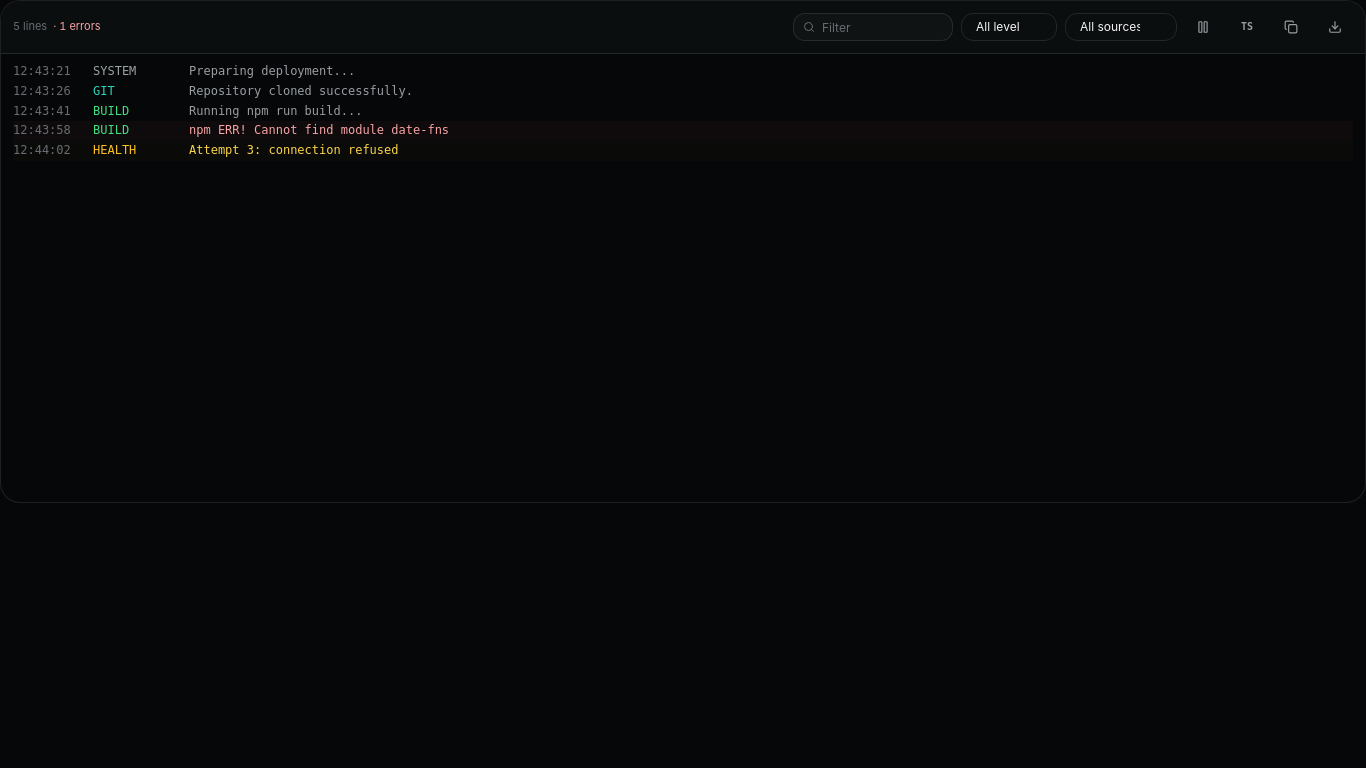
Test case: LogTerminal › filters by source without discarding the buffer
This screenshot has width=1366, height=768.
Step 1. Select "GIT" in the dropdown named "Source" → (1121, 27), box [1065,13,1177,41]
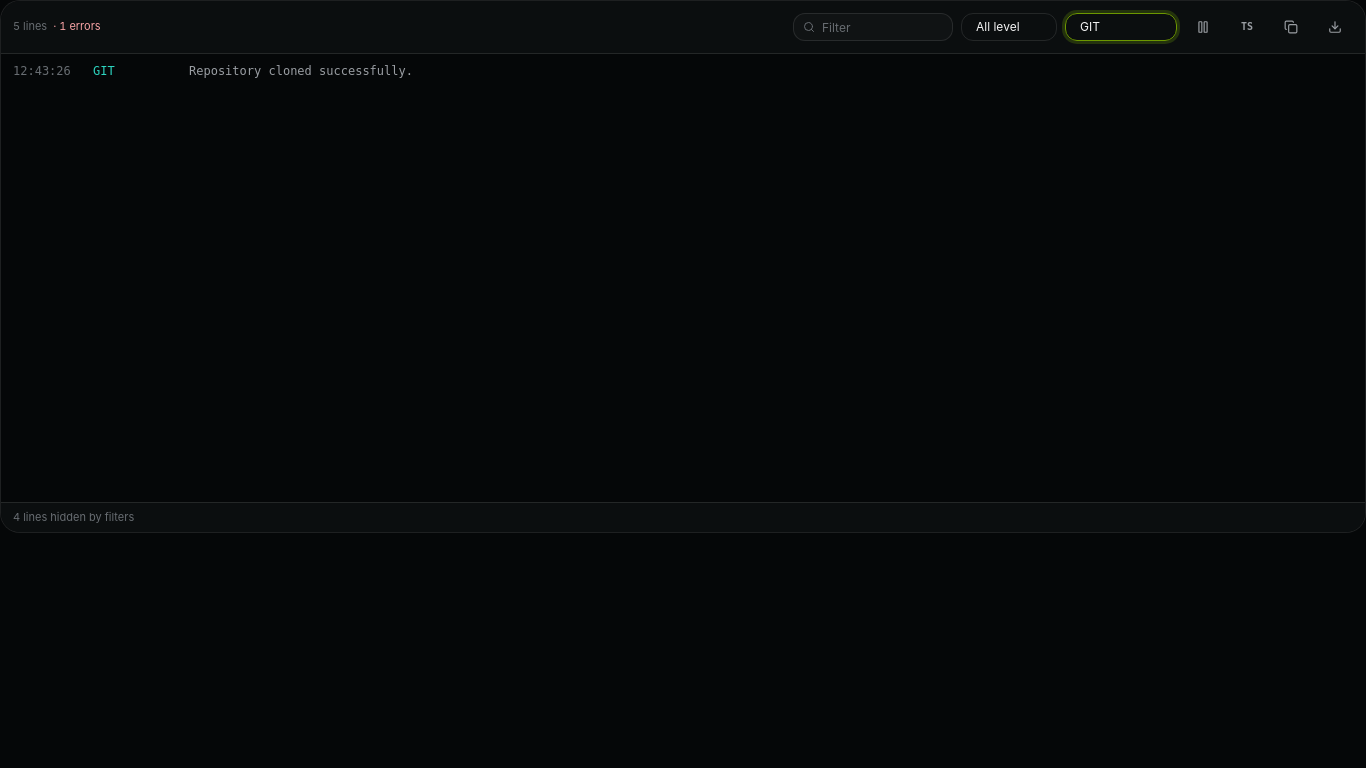
Check: the text "Repository cloned successfully." is shown, box [189,62,1353,82]
Check: the text "Preparing deployment..." is gone
Check: the text "4 lines hidden by filters" is shown, box [1,502,1365,532]
# Clearing the filter brings everything back, proving nothing was thrown away.
Step 2. Select "All sources" in the dropdown named "Source" → (1121, 27), box [1065,13,1177,41]
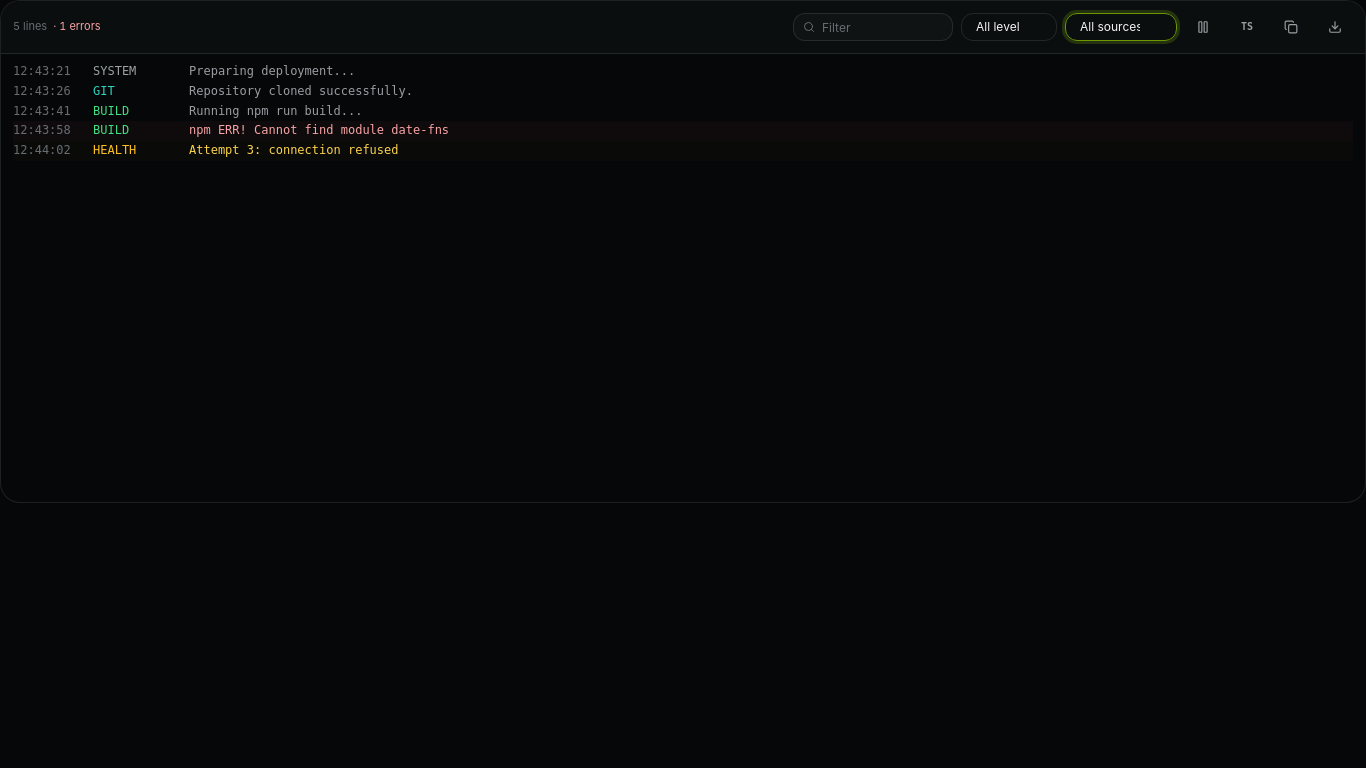
Check: the text "Preparing deployment..." is shown, box [189,62,1353,82]
